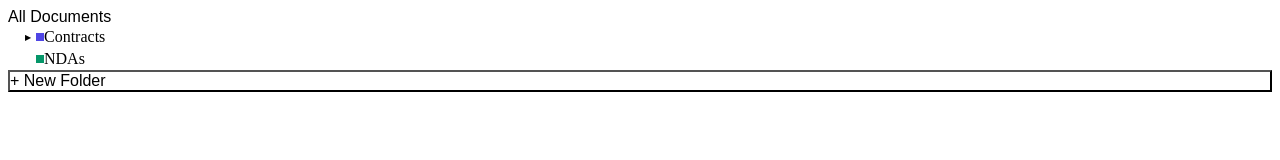
Test: DocumentFolders › collapses child folders when chevron is clicked again
Click the button named "Expand Contracts" at (28, 37), box [20,29,36,45]
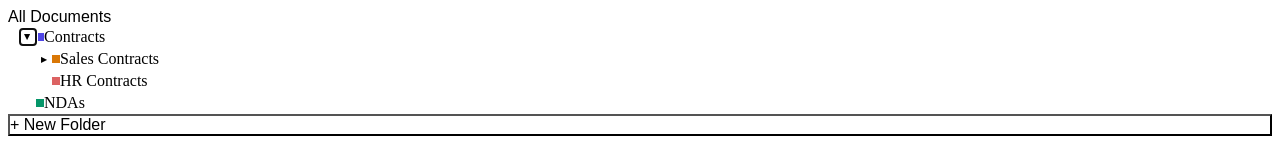
Expected: the text "Sales Contracts" is shown, [60,50,159,67]
Click the button named "Collapse Contracts" at (28, 37), box [20,29,36,45]
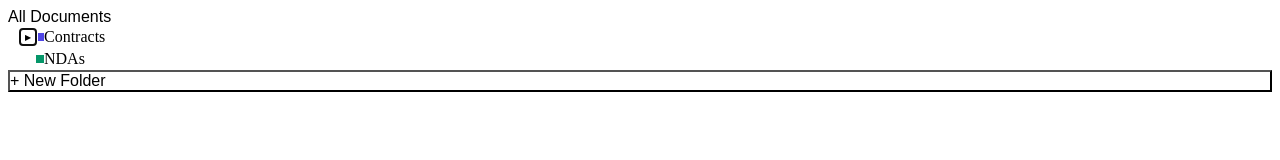
Expected: the button "Sales Contracts" is gone
